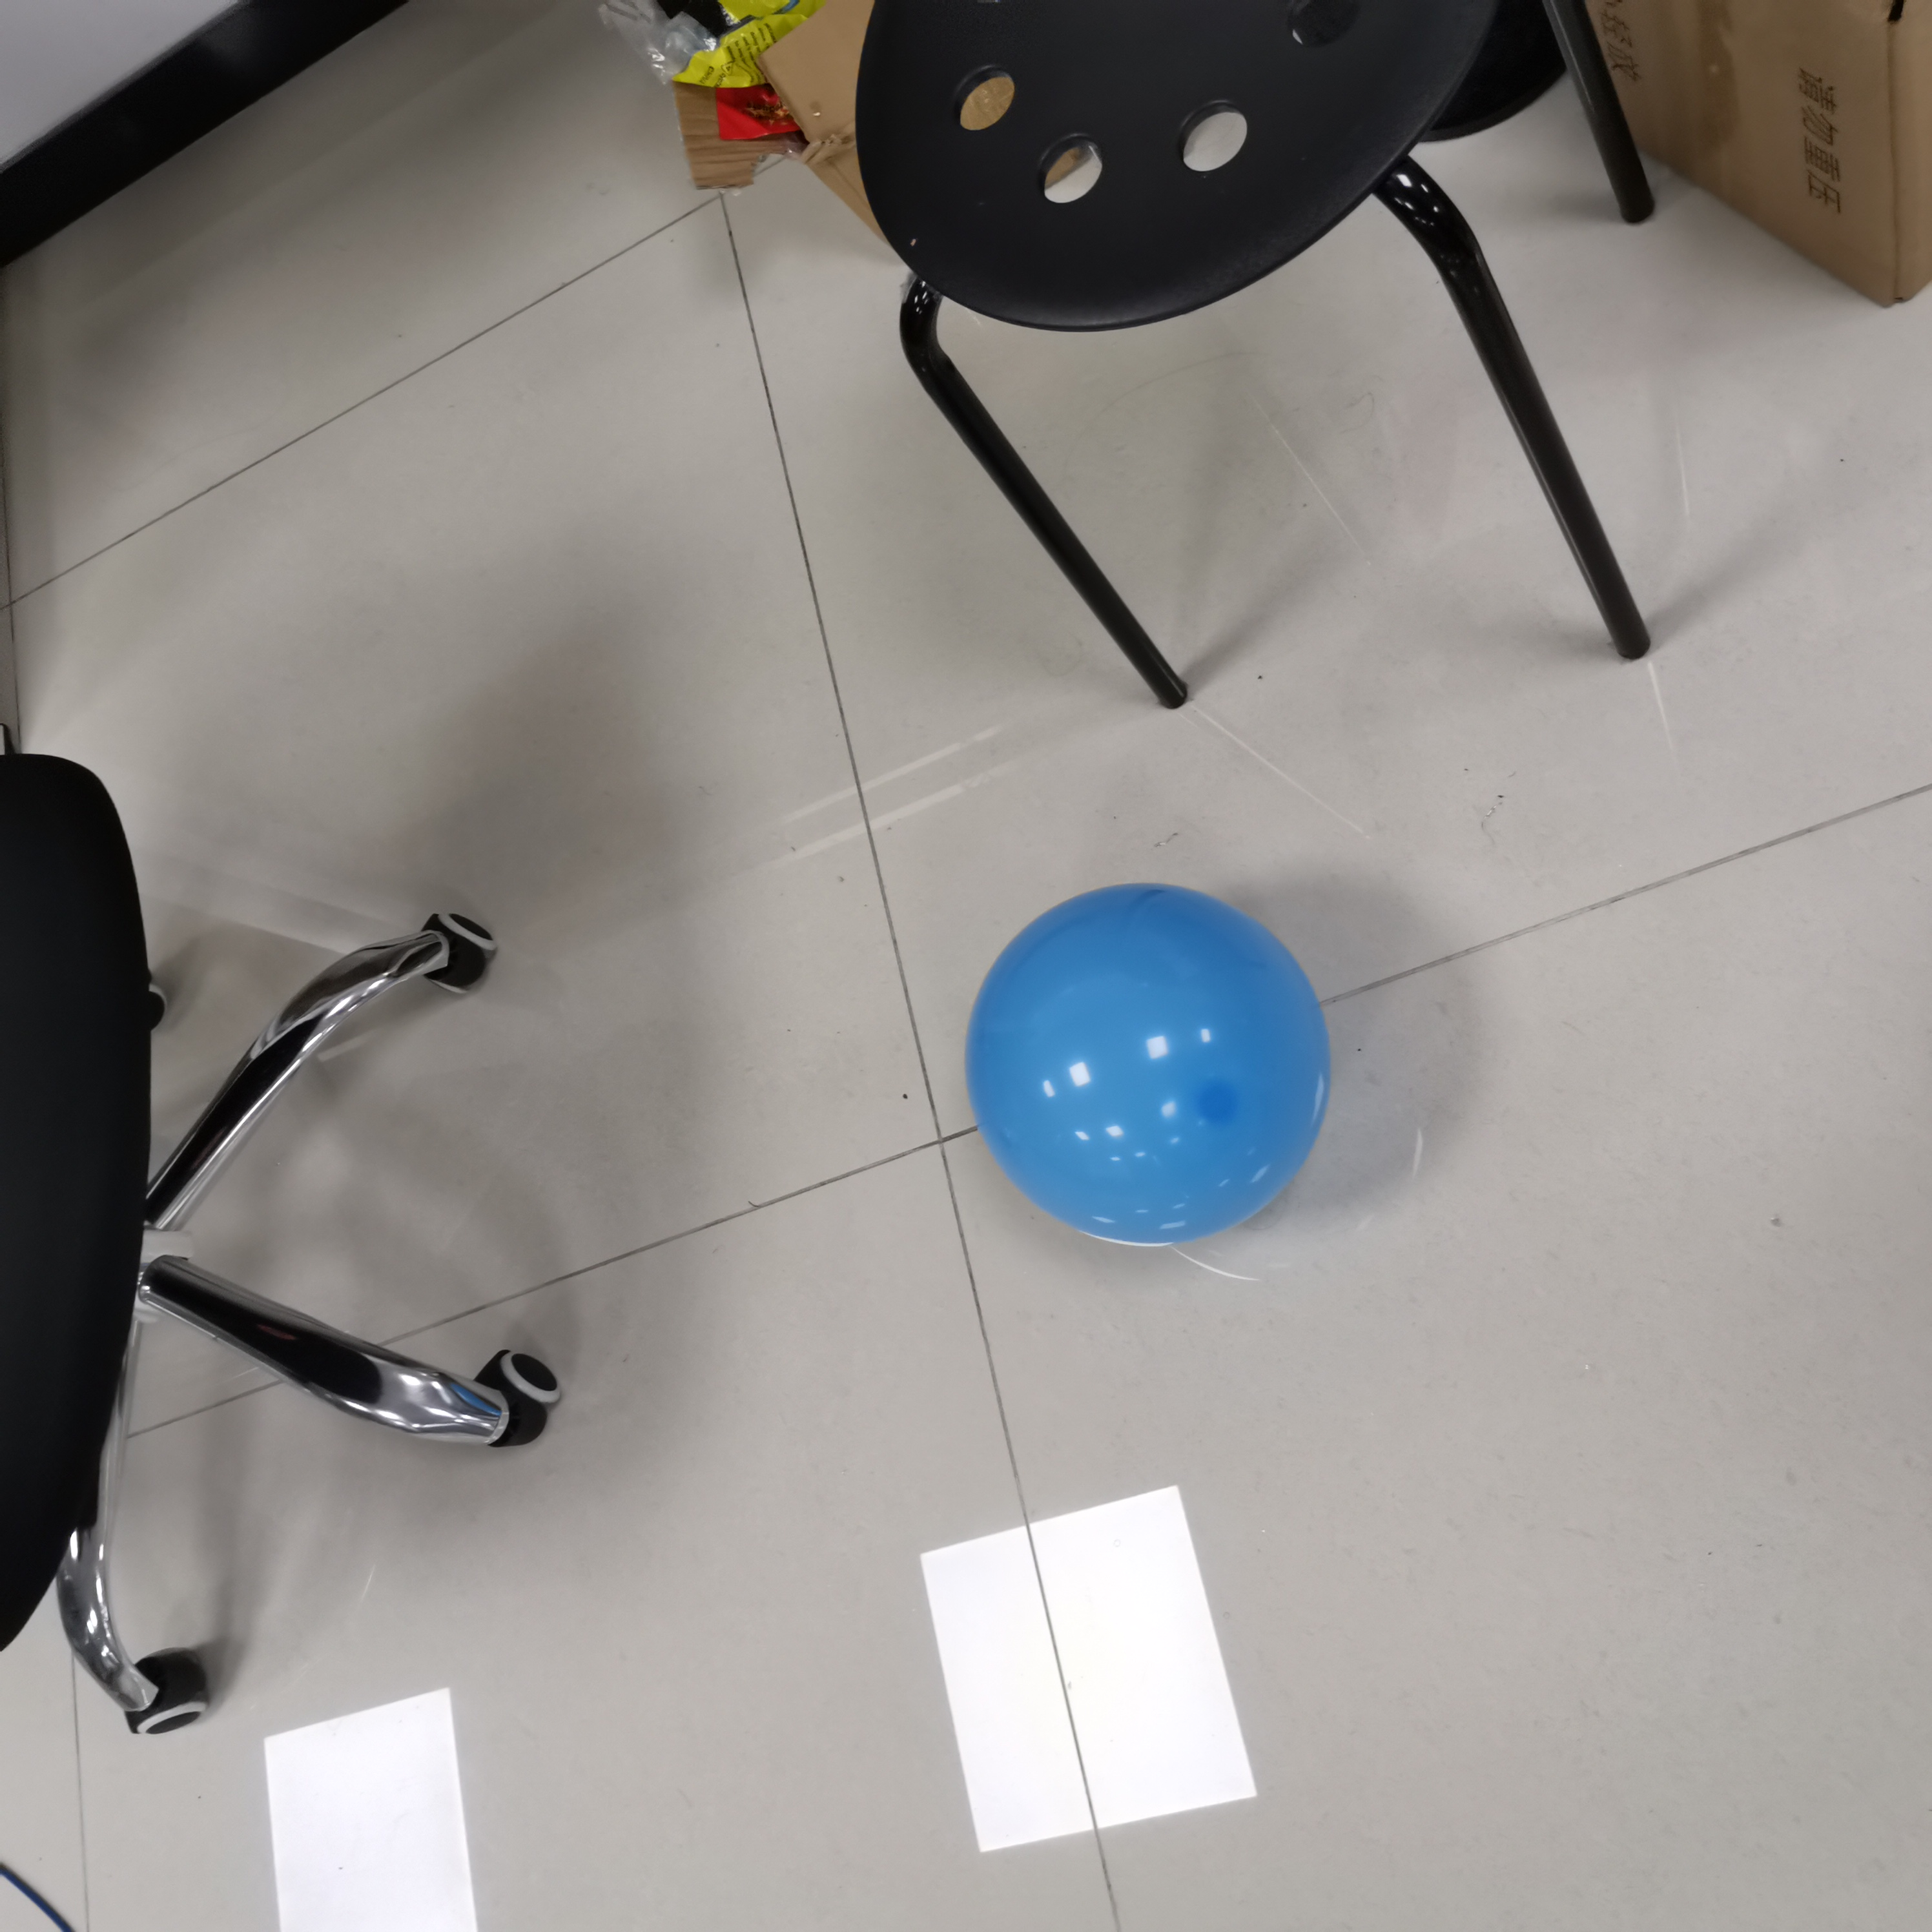balloon: (966, 881, 1334, 1247)
